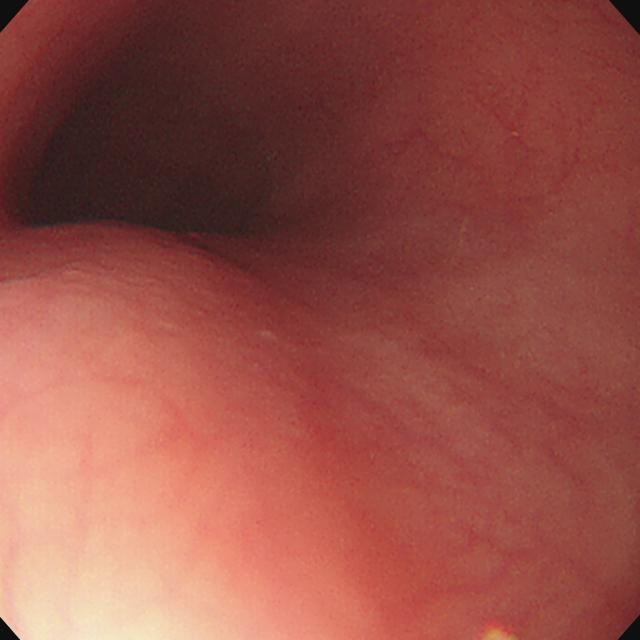E: (51, 89, 262, 232)
